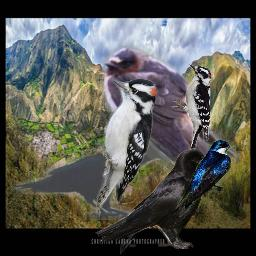Crow: (12, 138, 172, 220), (95, 148, 219, 249)
Swallow: (100, 45, 240, 192), (177, 140, 232, 211)
Woodpecker: (95, 72, 163, 217), (169, 63, 212, 156)
